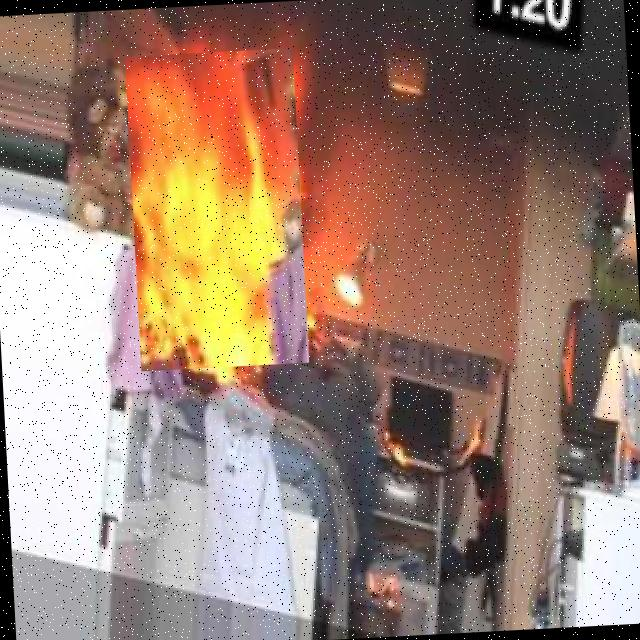fire: (125, 48, 309, 371)
